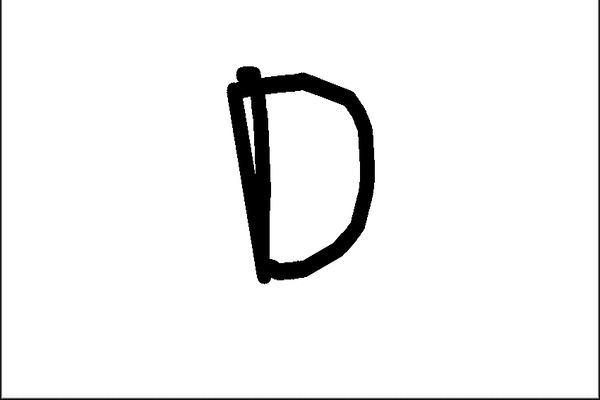D: (220, 60, 381, 286)
